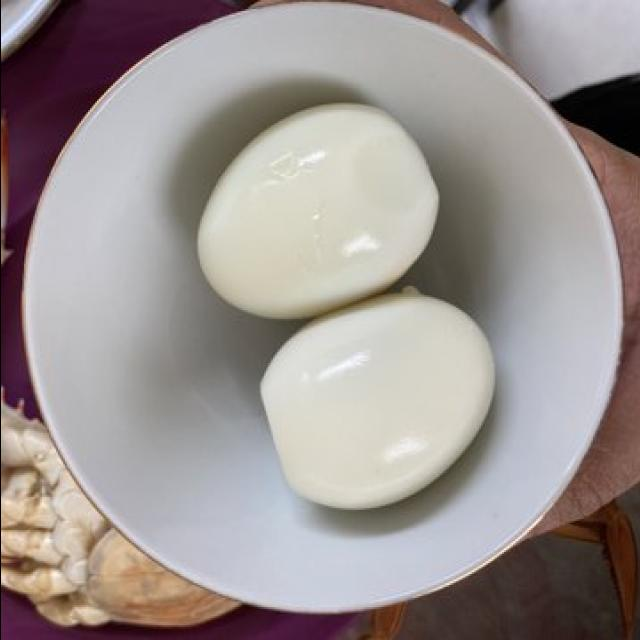telur rebus: (256, 281, 500, 513), (197, 101, 441, 317)
